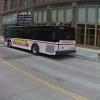Bus: (3, 21, 81, 59)
